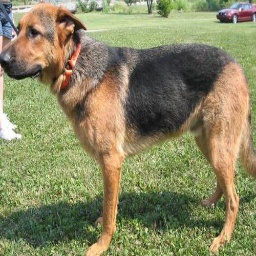dog: (0, 3, 256, 256)
